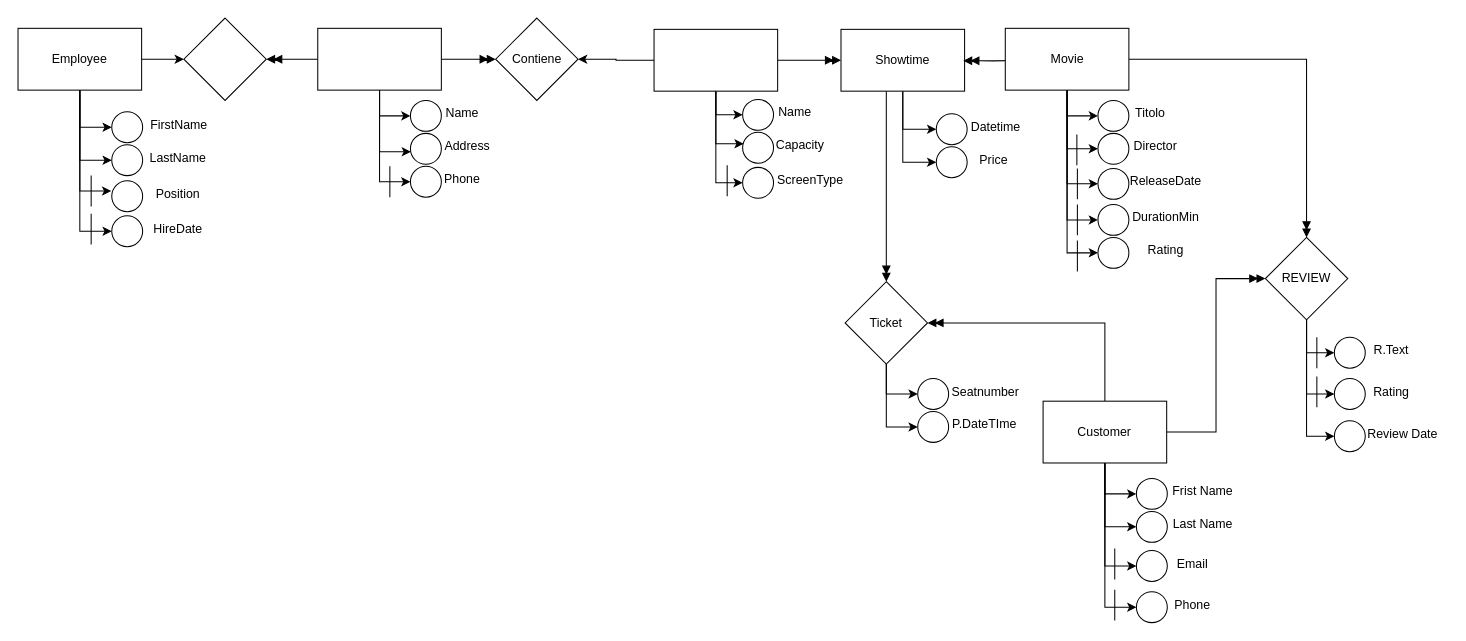
Image size: 1466x641. Some labels were removed from this diagram. Each missing label, with the centre of its shape:
"CINEMA" belongs at [379,58].
"SOTTOPAGA" belongs at [224,58].
"Theater" belongs at [715,59].
